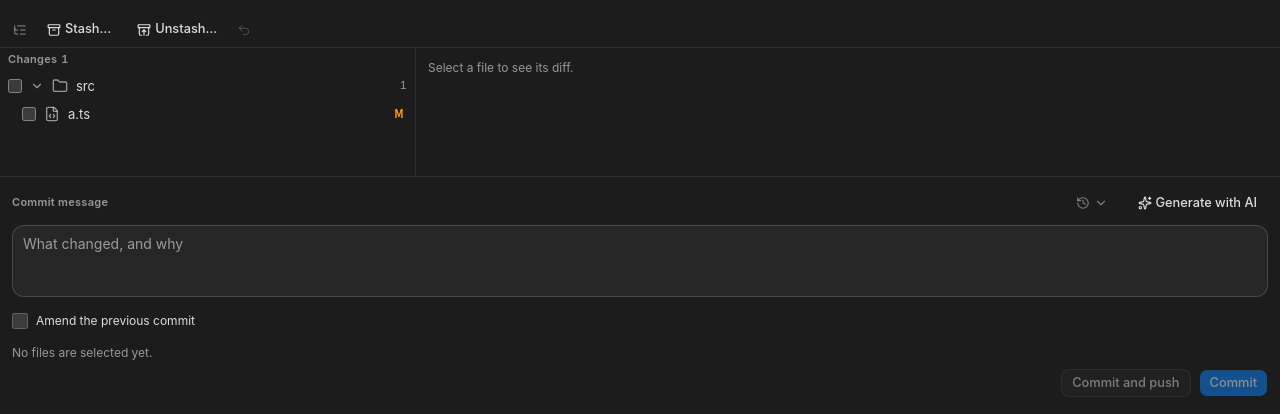
Test: checkbox to index mapping › stages the file it was clicked on and shows it as included right away
Click the checkbox named "Stage": click(29, 114) x1=22 y1=107 x2=36 y2=121
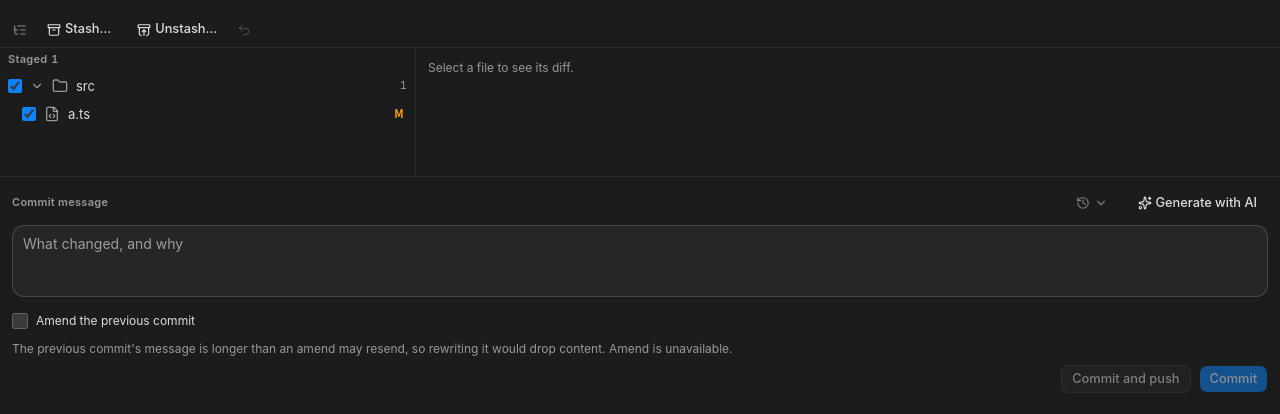
Now the checkbox named "Unstage" is shown, box x1=22 y1=107 x2=36 y2=121
Now the heading "Staged1" is shown, box x1=8 y1=52 x2=59 y2=66
